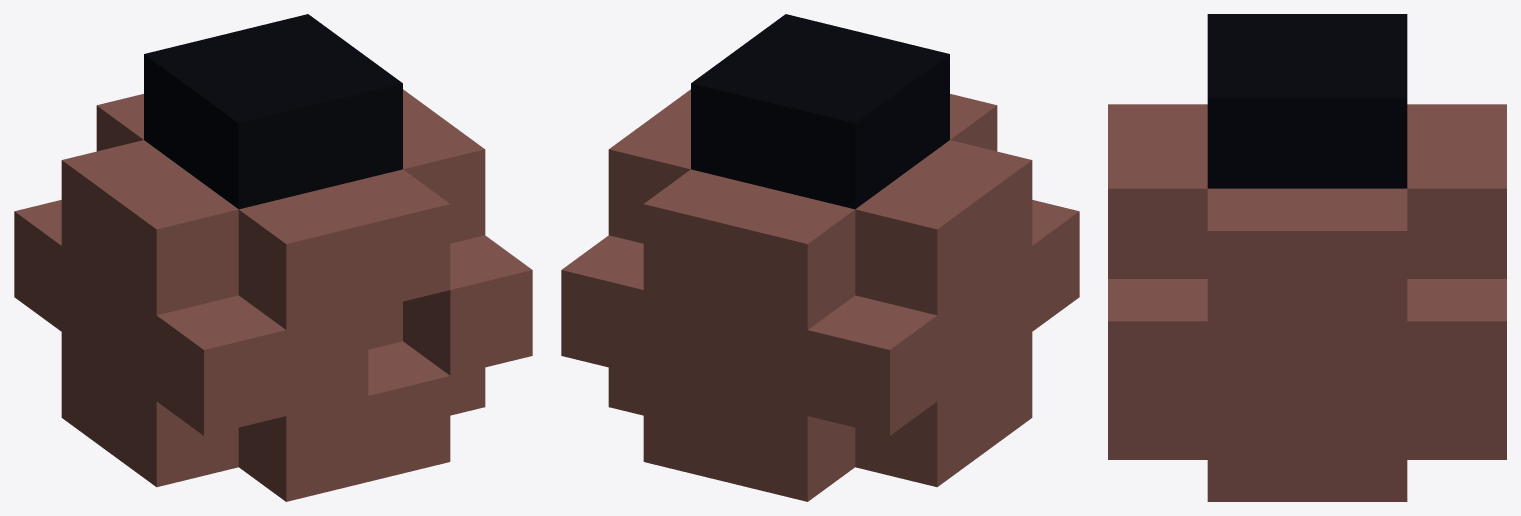
The model's file is Manzano_Mateo_Andres_Guzmán_Reyes_fase_1.obj.
The picture shows the model from 3 angles, left to right: view 1: azimuth 30°, elevation 25°; view 2: azimuth 150°, elevation 25°; view 3: azimuth 270°, elevation 25°; orthographic projection. The views are drawn at different scales.
Parts seen in each view (by area): view 1: Manzano_Mateo_Andres_Guzmán_Reyes_fase_1; view 2: Manzano_Mateo_Andres_Guzmán_Reyes_fase_1; view 3: Manzano_Mateo_Andres_Guzmán_Reyes_fase_1.
Boxes of the visible parts, x1,y1,x2,y2 form: Manzano_Mateo_Andres_Guzmán_Reyes_fase_1: (14, 14, 532, 501); Manzano_Mateo_Andres_Guzmán_Reyes_fase_1: (561, 14, 1079, 501); Manzano_Mateo_Andres_Guzmán_Reyes_fase_1: (1108, 14, 1506, 501).
Bounding box in the file's own units: 4 × 4 × 4.
